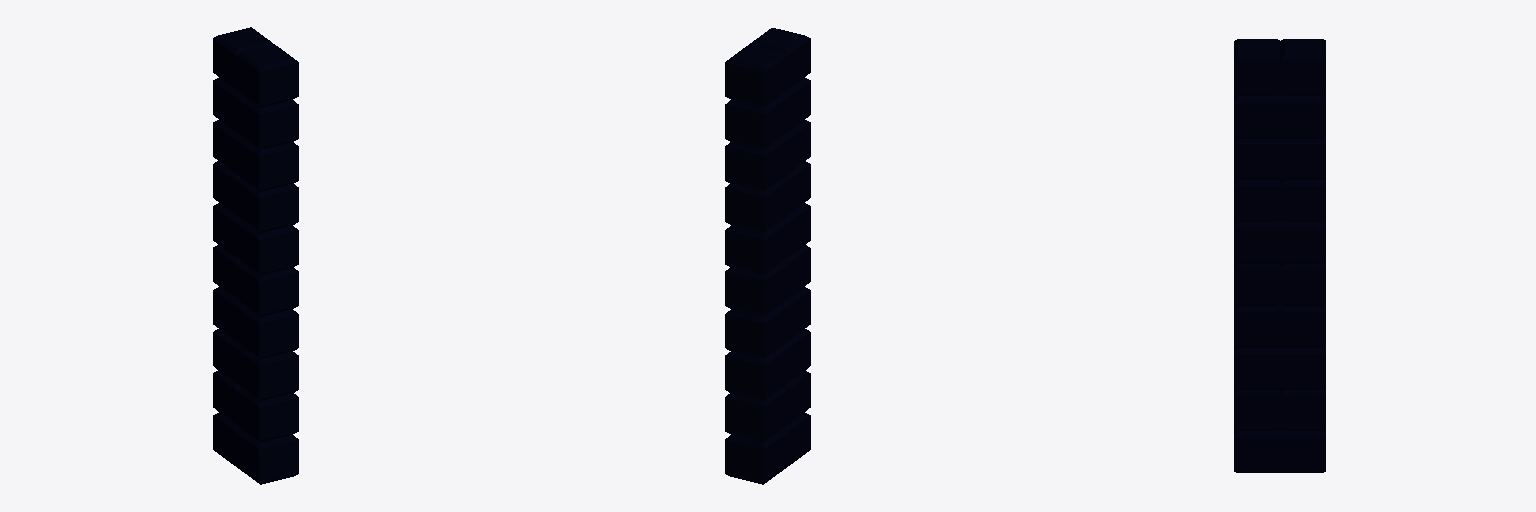
File: Wall.obj
3 views of the same model, side by side, from view 1: azimuth 30°, elevation 25°; view 2: azimuth 150°, elevation 25°; view 3: azimuth 270°, elevation 25° (orthographic).
Parts seen in each view (by area): view 1: obj_0.019; view 2: obj_0.019; view 3: obj_0.019.
Part boxes in pixels (x1,y1,x2,y2): obj_0.019: (213,27,298,484); obj_0.019: (725,28,810,484); obj_0.019: (1234,39,1325,472).
Size of the model in its own units: 10 by 100 by 20.